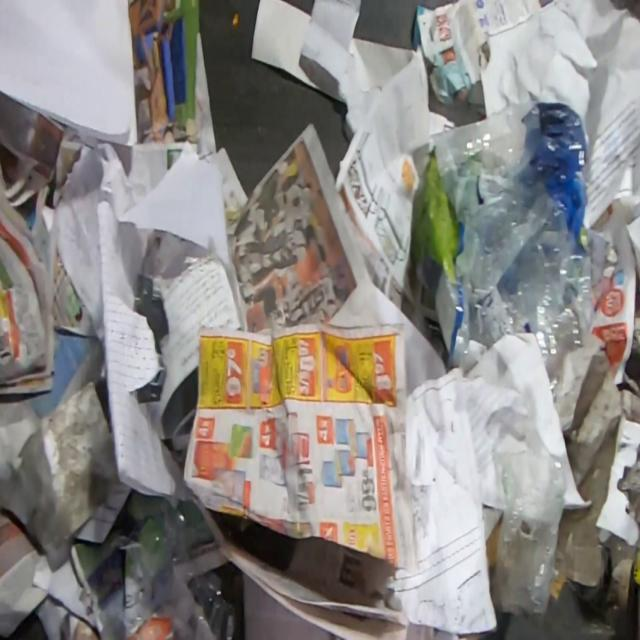cardboard: (617, 447, 640, 526)
rigid_plastic: (135, 491, 239, 640)
soft_plastic: (430, 98, 596, 404), (490, 439, 570, 616), (410, 152, 460, 286)
